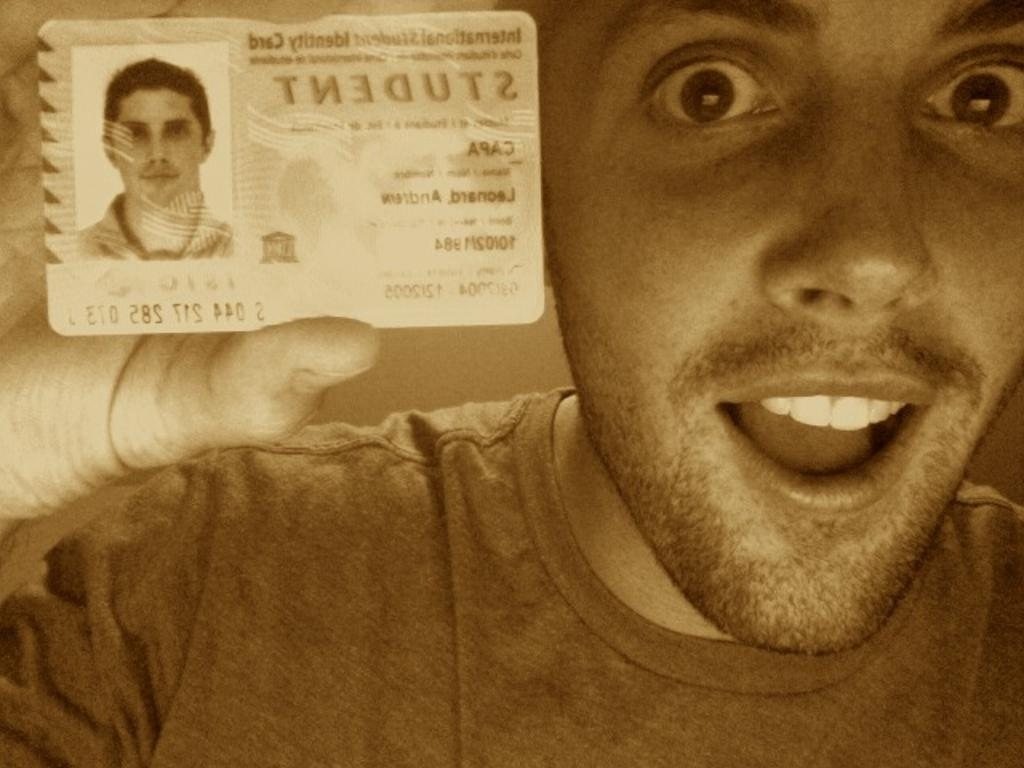face: (554, 24, 1020, 650), (114, 80, 196, 190)
